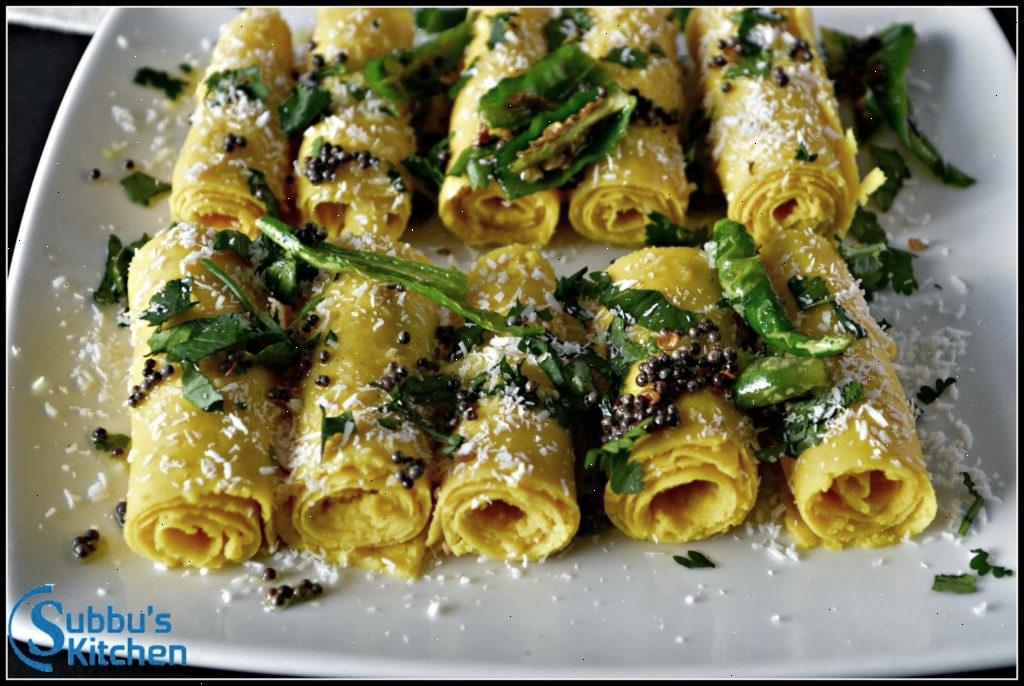khandvi: (102, 28, 945, 570)
